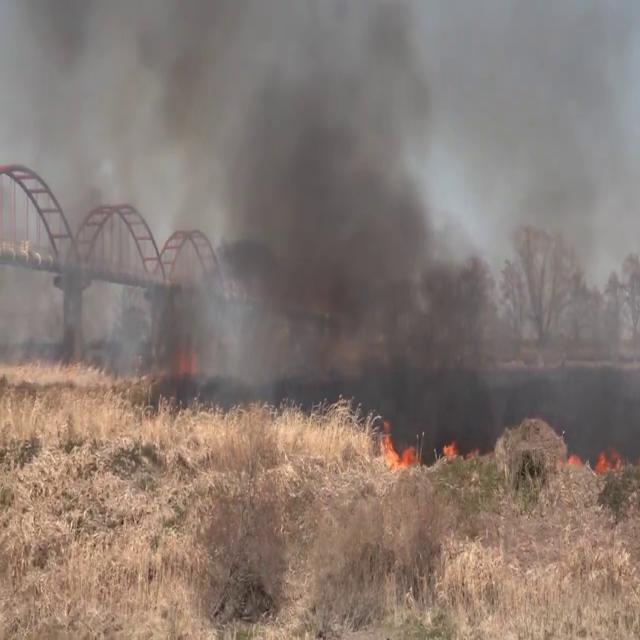Fire: (377, 422, 418, 472)
Smoke: (7, 0, 640, 461)
